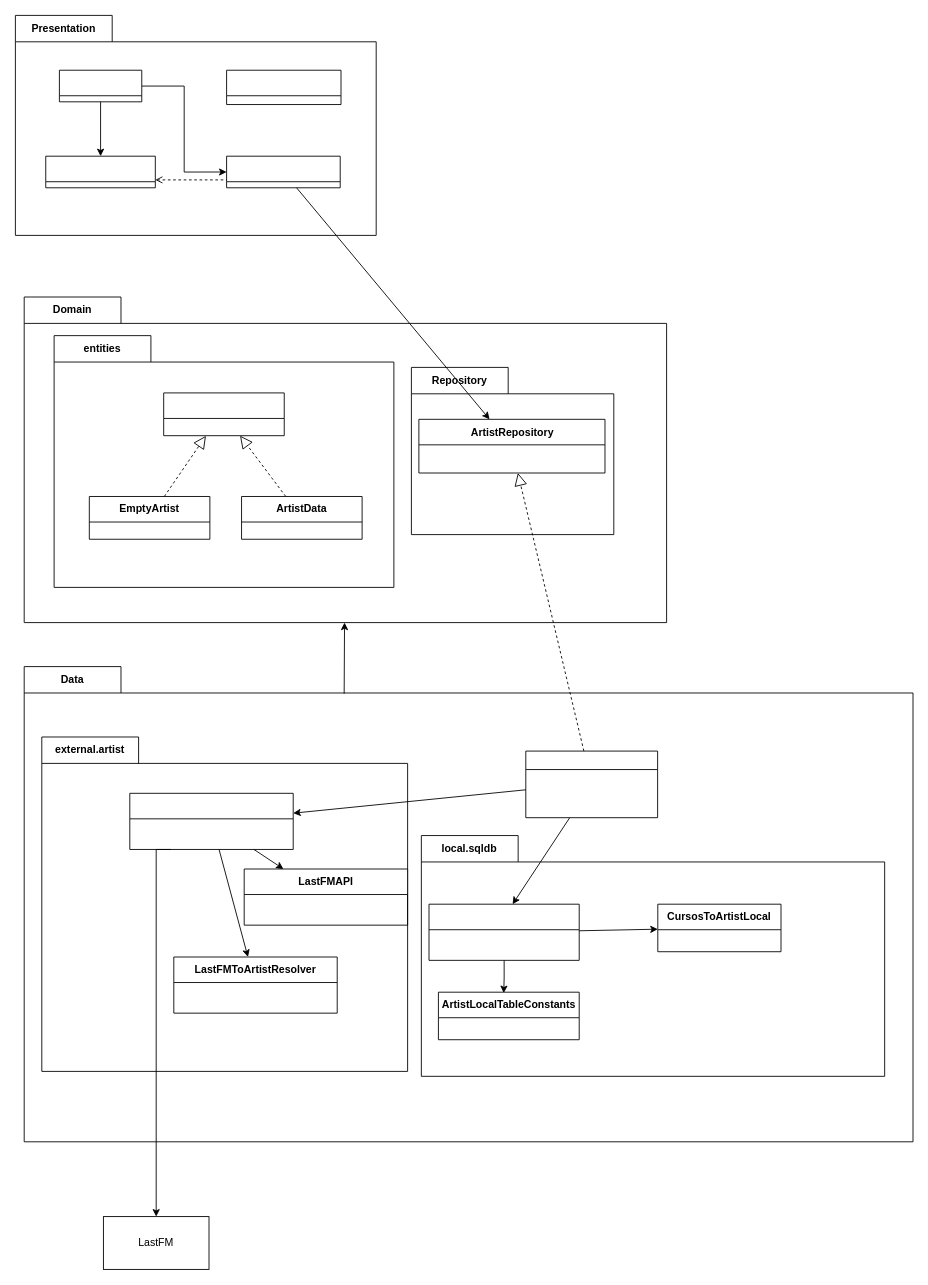
Some shapes in this 928 by 1285 pixel diagram are drawn without their labels. The centre of each missing label's shape, as x and y in pixels:
"Artist" goes at point (223, 414).
"ArtistDescriptionHelper" goes at point (100, 171).
"ArtistExternalService" goes at point (211, 820).
"ArtistLocalStorage" goes at point (503, 931).
"ArtistRepositoryImpl" goes at point (591, 784).
"MoreDetailsPresenter" goes at point (283, 171).
"MoreDetailsUiState" goes at point (283, 87).
"MoreDetailsView" goes at point (100, 85).
